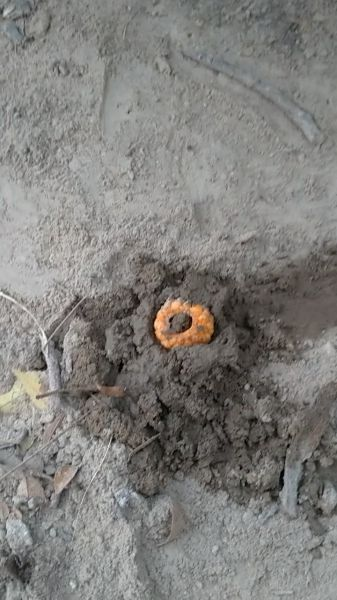eggs: (146, 298, 218, 353)
